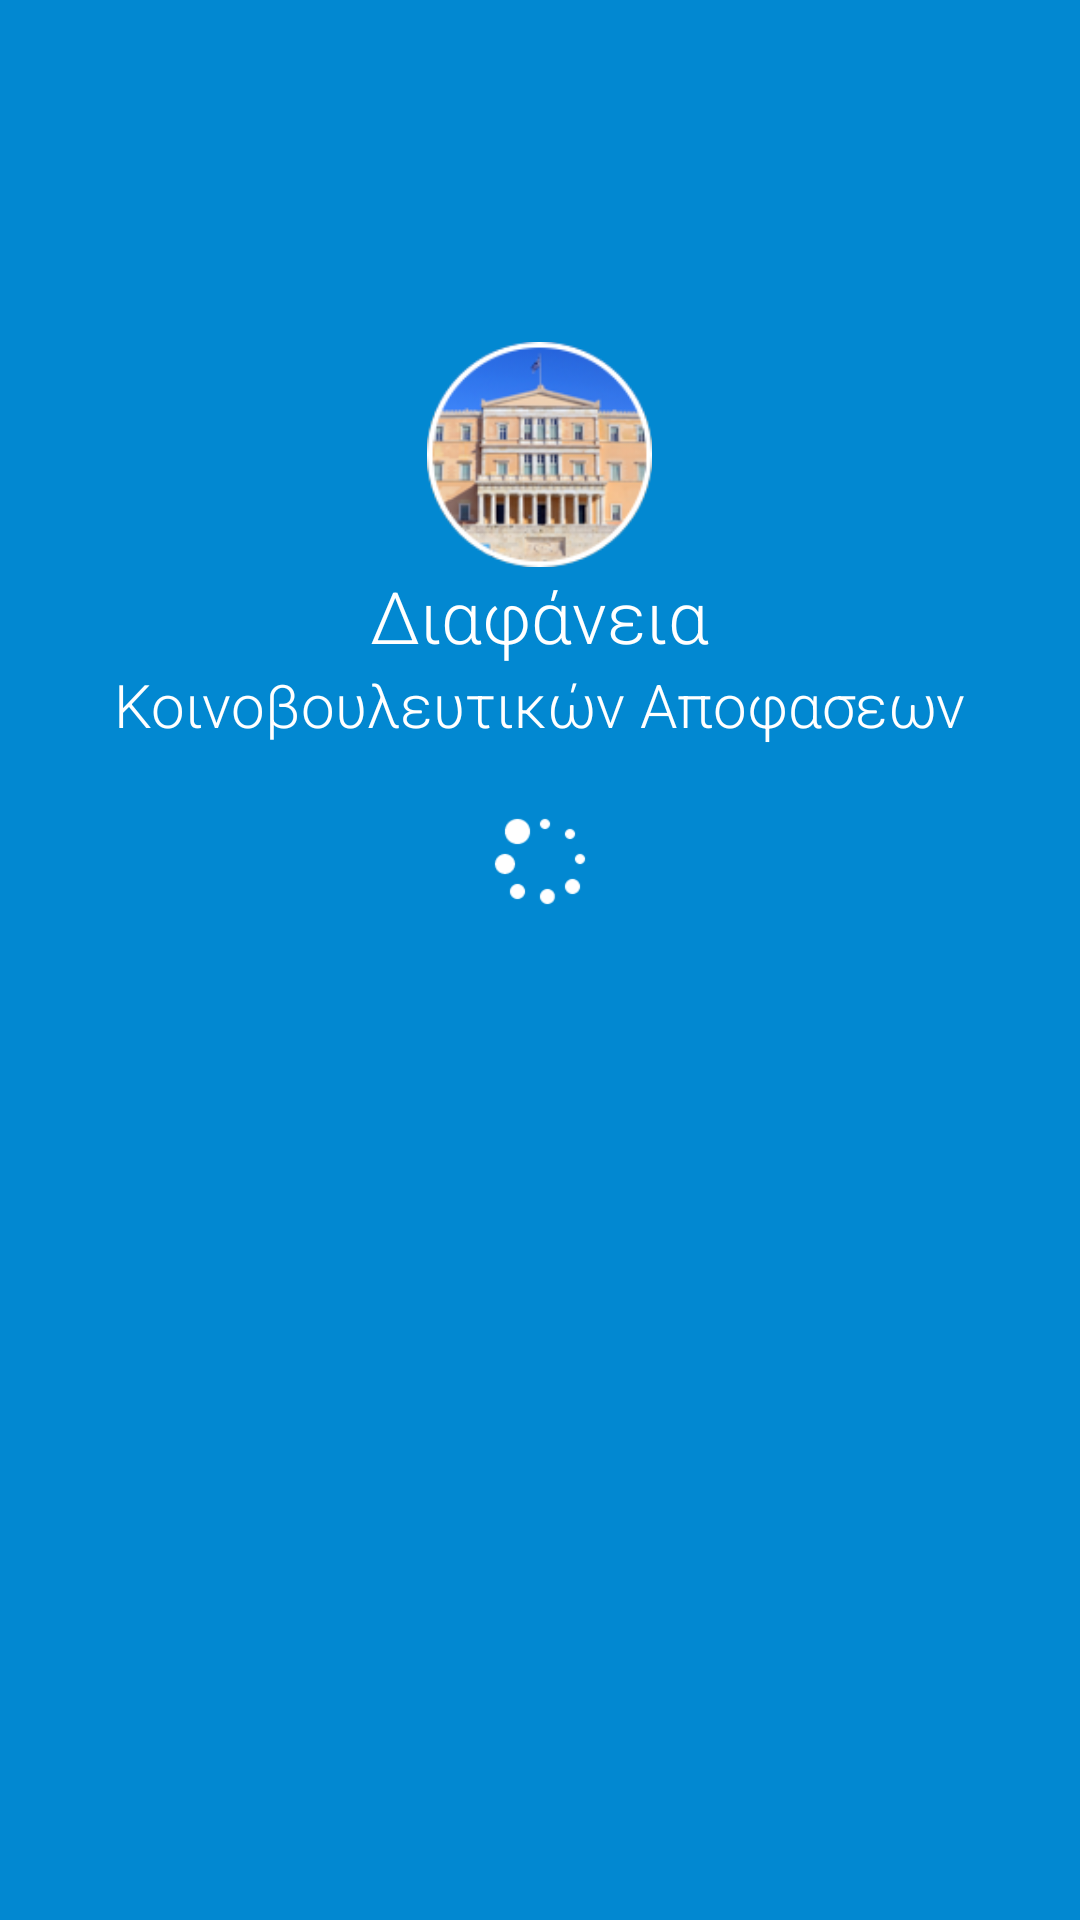

Icons on this 1080×1920 Android screen, each with its box as (x1, y1, x2, y2):
spinner: (494, 818, 586, 905)
